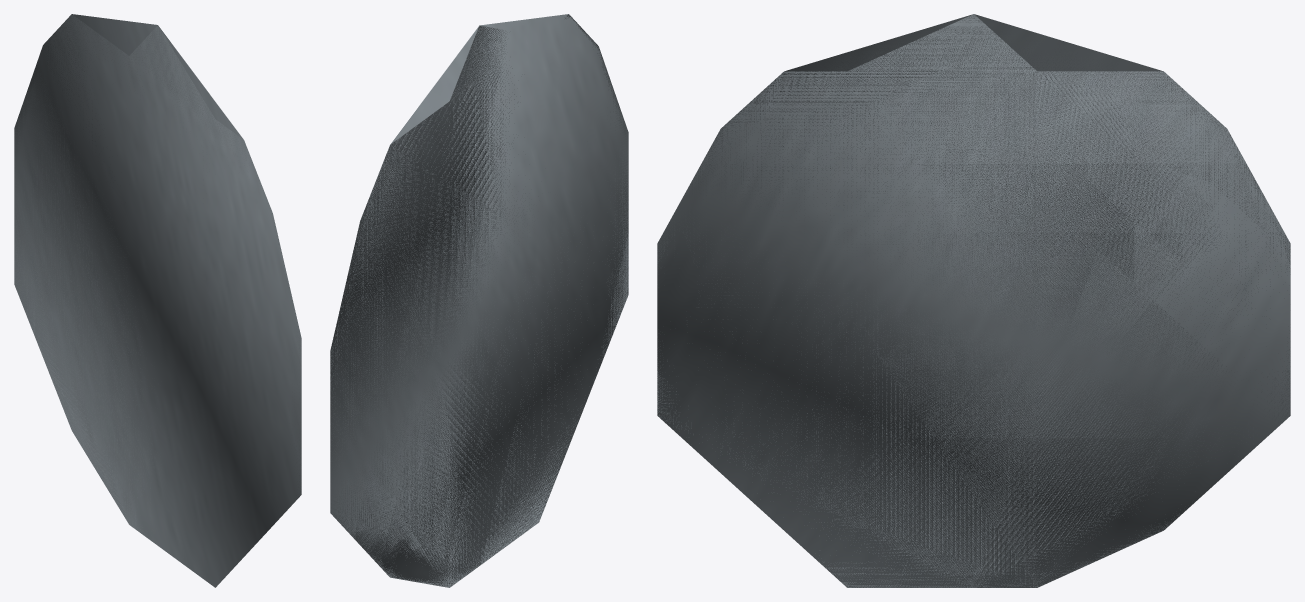
3 renders of one model, left to right at view 1: azimuth 30°, elevation 25°; view 2: azimuth 150°, elevation 25°; view 3: azimuth 270°, elevation 25°, orthographic. The views are drawn at different scales.
Bounding box in the file's own units: 0 × 0.8 × 0.8.
1 material, 1 textured.
